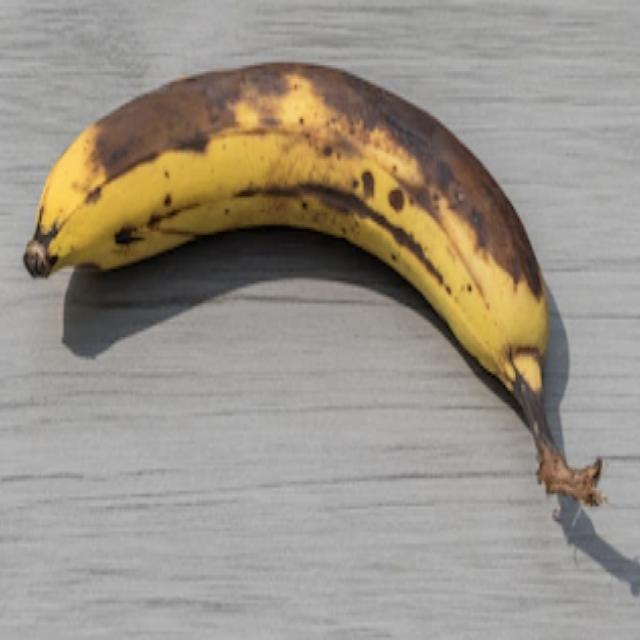rotten-banana: (25, 59, 558, 429)
